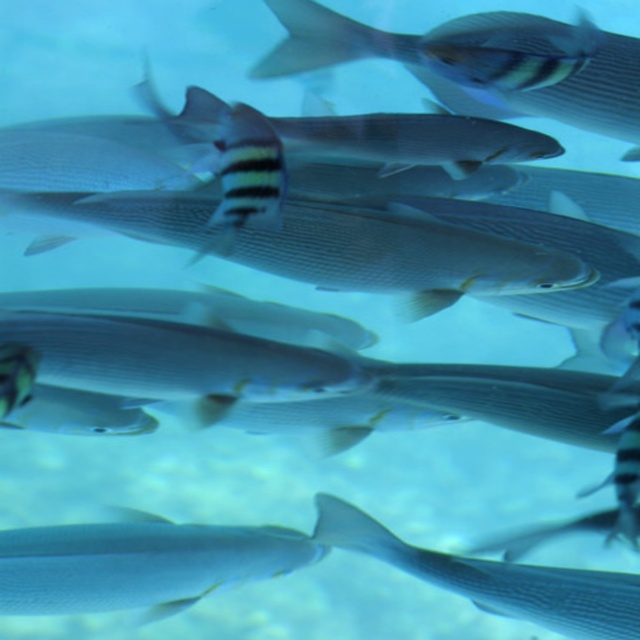Fish: (0, 0, 638, 640)
